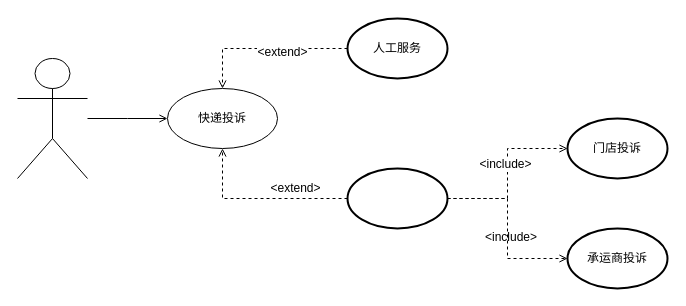
The diagram is 686 pixels wide and 306 high, and some of its shapes have lost their labels. Each missing label, with the centre of its shape:
"用户" belongs at [52,118].
"自助投诉" belongs at [397,198].
